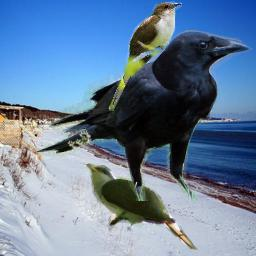Crow: (36, 30, 253, 201)
Cuckoo: (83, 163, 198, 250), (108, 1, 182, 111)
